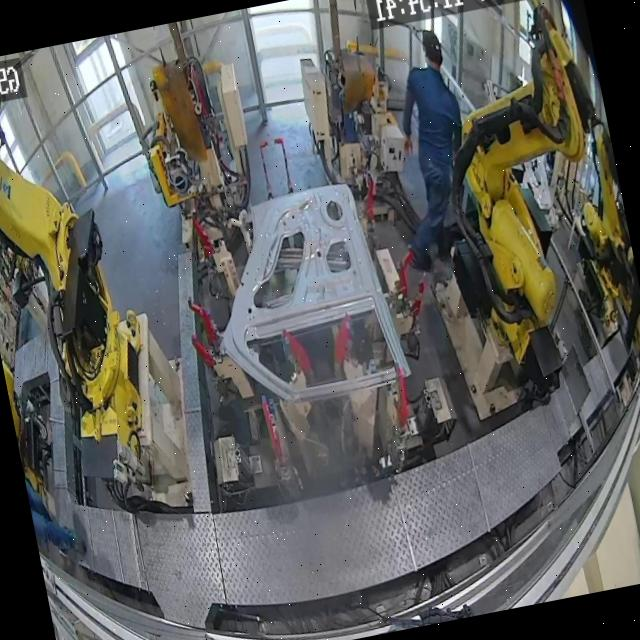Person: (367, 26, 490, 274)
